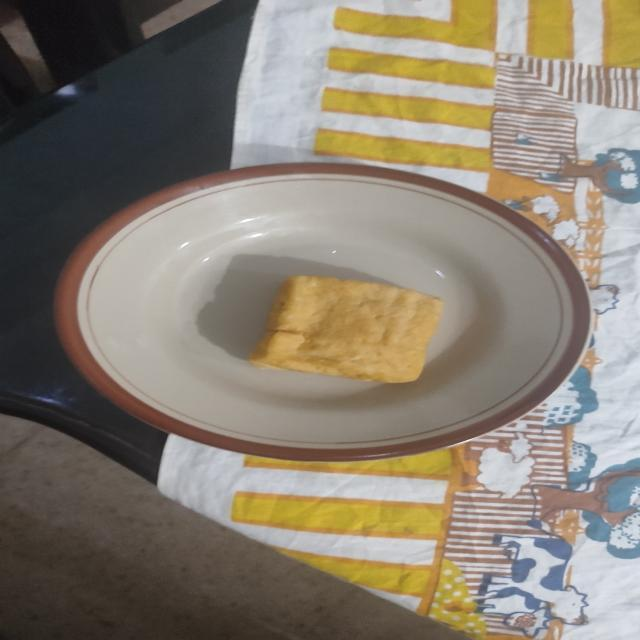tahu_goreng: (250, 276, 442, 383)
